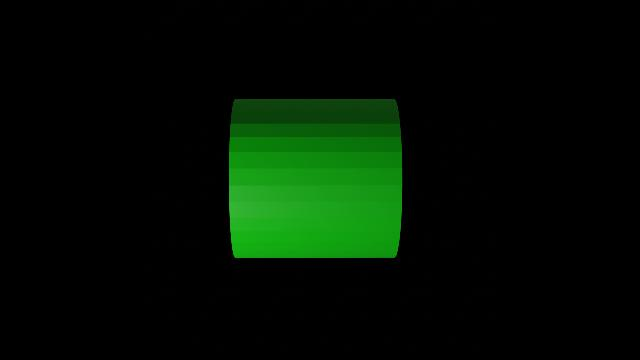Cylinder: (219, 88, 419, 268)
